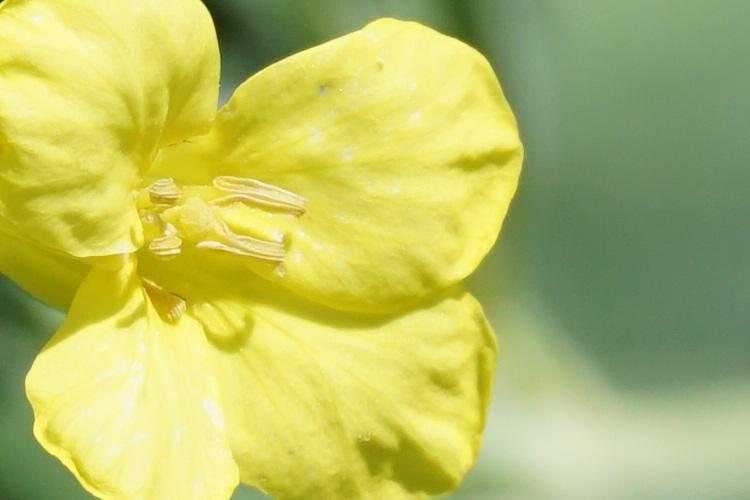yellow: (4, 5, 514, 498)
